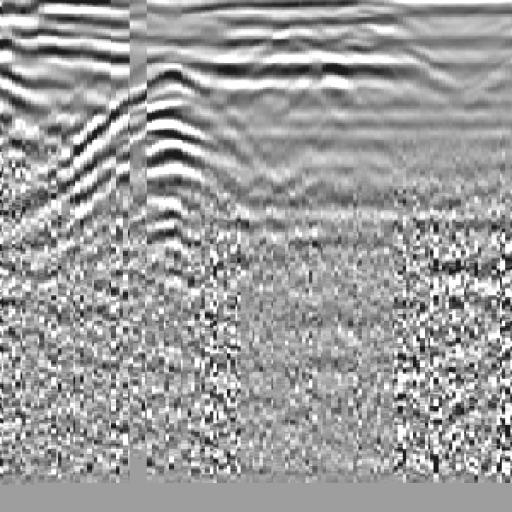metalic: (70, 62, 264, 256)
